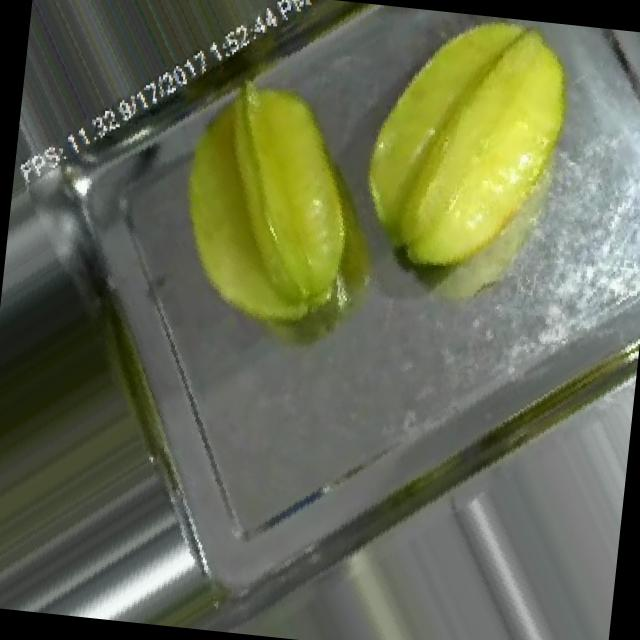fruit: (289, 0, 637, 338), (123, 31, 440, 394)
